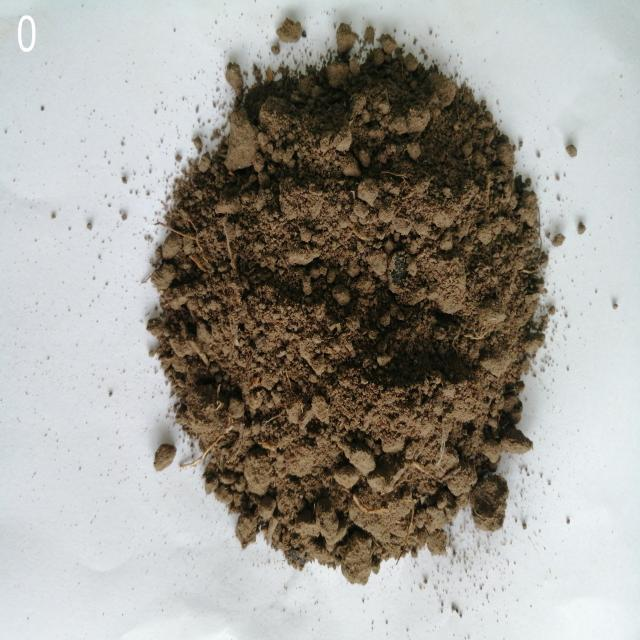soil: (226, 138, 464, 454)
